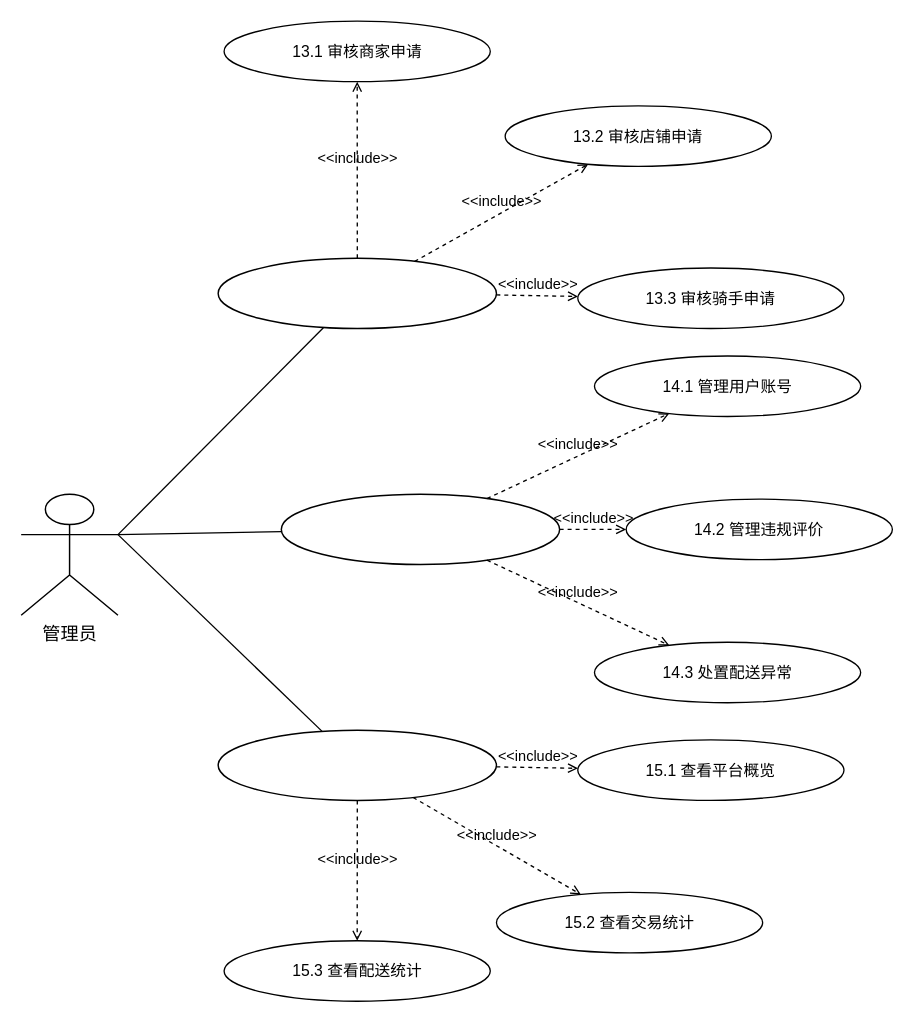
Some shapes in this 915 by 1024 pixel diagram are drawn without their labels. Here are the shapes that lost their labels. From the top down, the centre of each, then its label:
At point (357, 293): "13 审核准入申请".
At point (420, 529): "14 维护平台秩序".
At point (357, 765): "15 查看平台数据".
